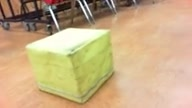cube: (25, 27, 114, 104)
